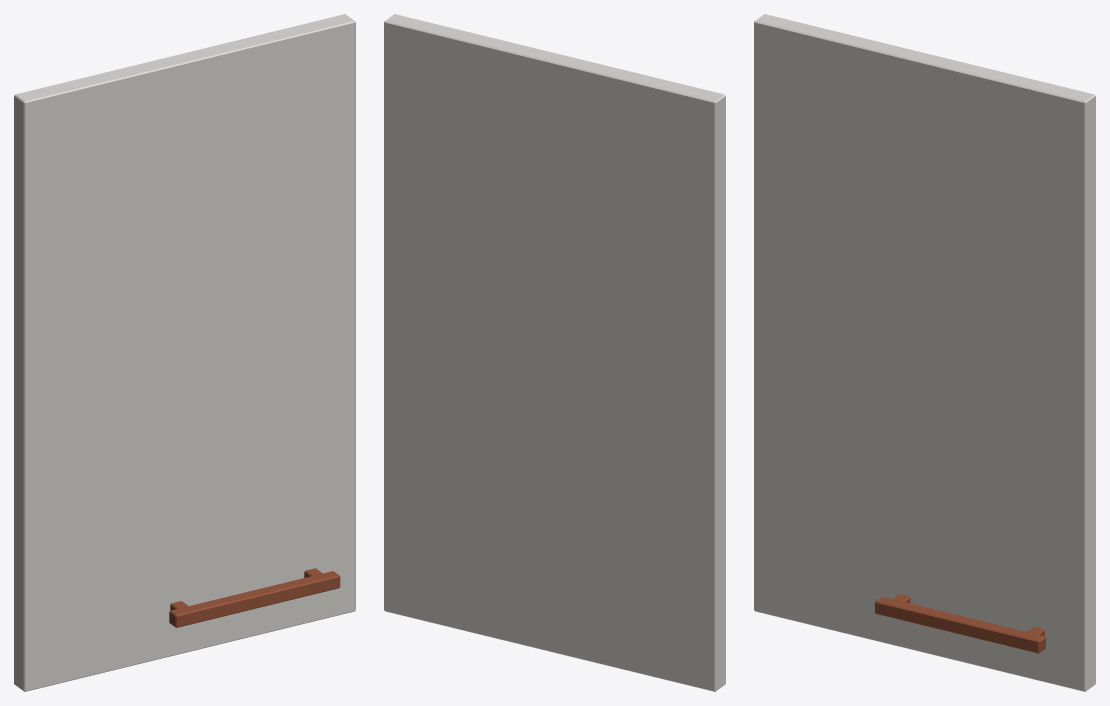
Rendered from l_kitchen_cabinets_w1_left_door.glb.
The picture shows the model from 3 angles, left to right: view 1: azimuth 30°, elevation 25°; view 2: azimuth 150°, elevation 25°; view 3: azimuth 330°, elevation 25°; orthographic projection.
Visible parts, largest first — view 1: l_kitchen_cabinets_w1_left_door; view 2: l_kitchen_cabinets_w1_left_door; view 3: l_kitchen_cabinets_w1_left_door.
Part boxes in pixels (<box>): l_kitchen_cabinets_w1_left_door: <box>14,14,355,691</box>; l_kitchen_cabinets_w1_left_door: <box>384,14,725,691</box>; l_kitchen_cabinets_w1_left_door: <box>754,14,1095,691</box>.
Size of the model in its own units: 0.322 by 0.547 by 0.044.
